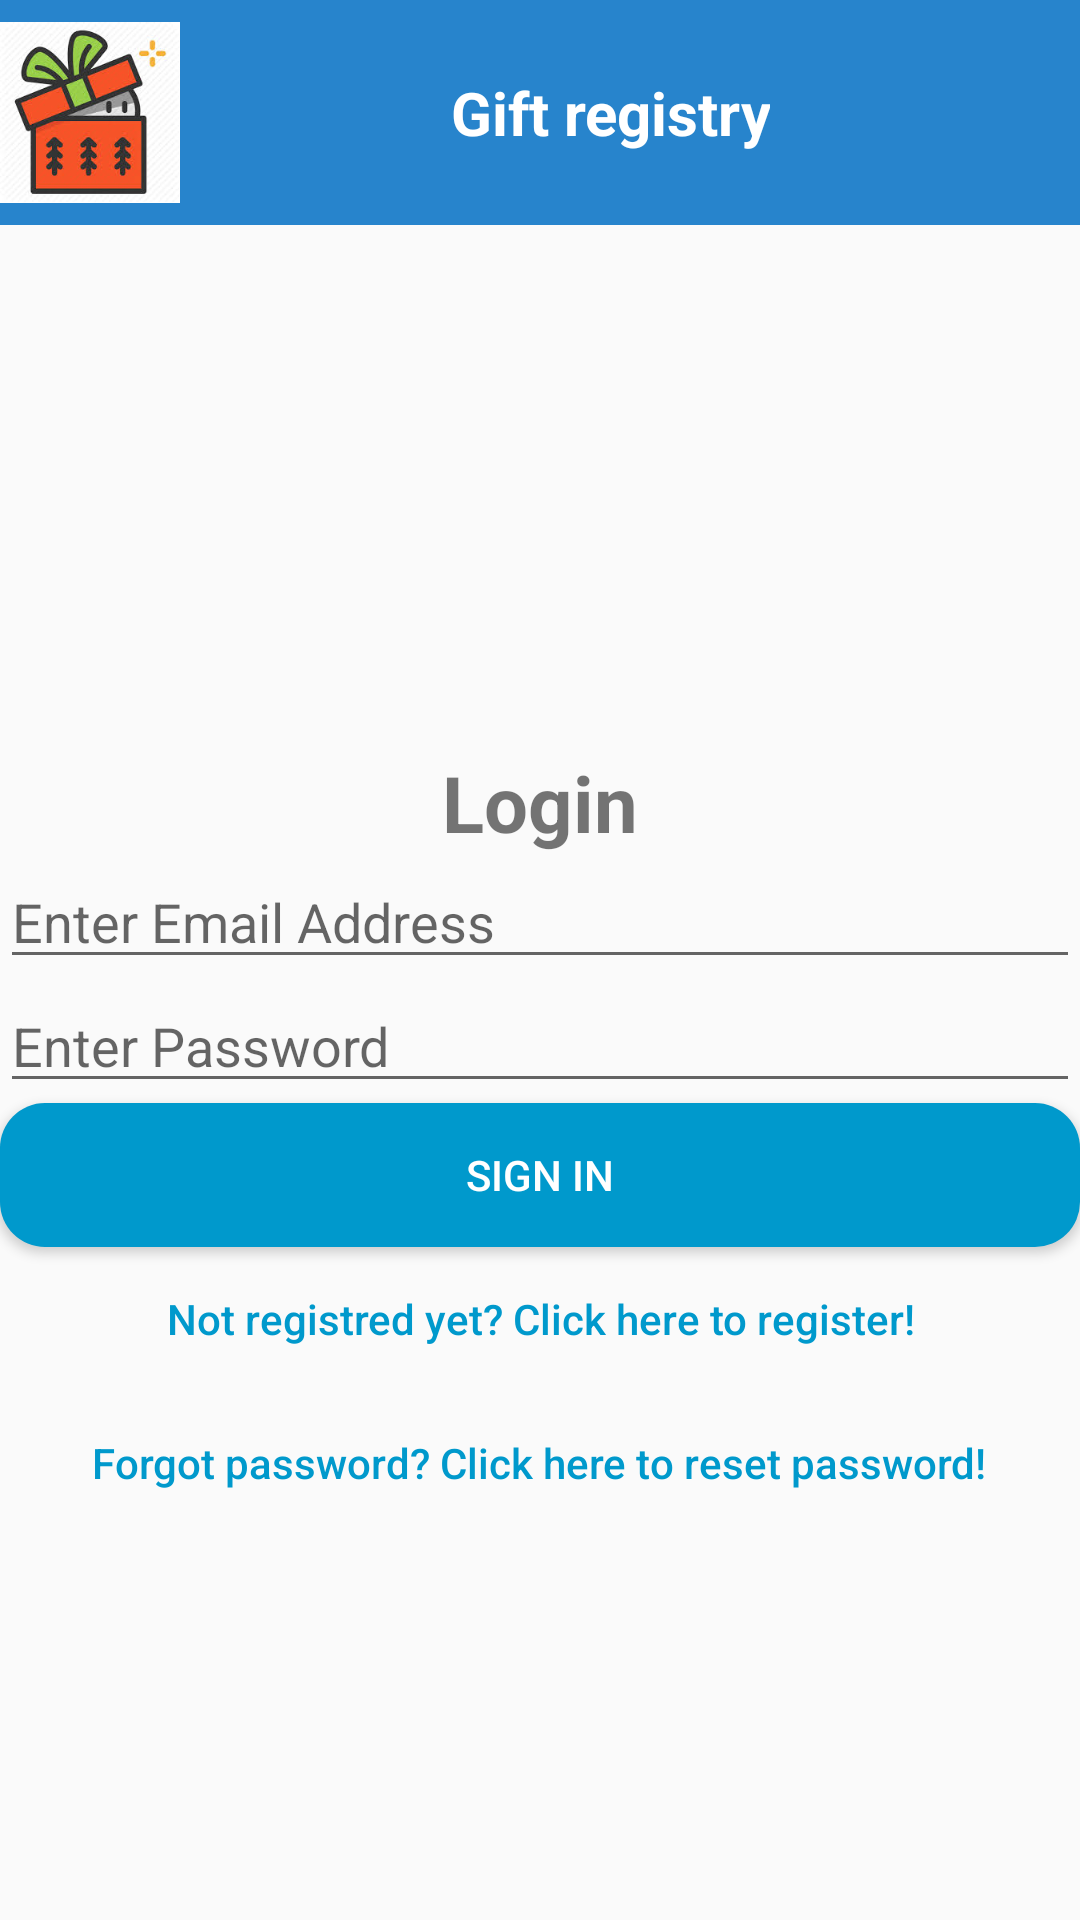

Icon click points for this 1080px x 1920px phone screenshot, format (x,y):
gift: (90,112)
